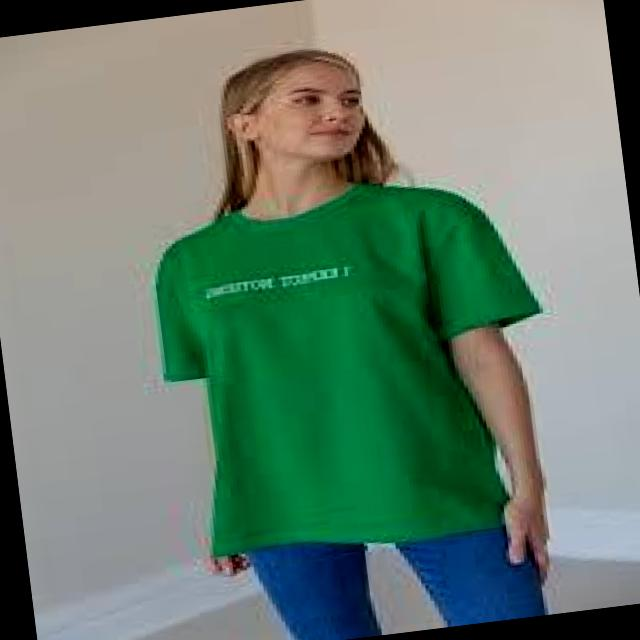Tshirt: (135, 145, 570, 569)
